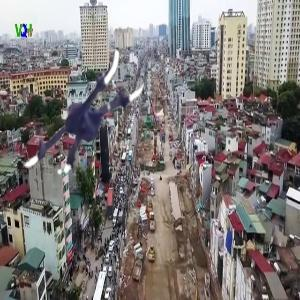drone: (3, 35, 151, 183)
